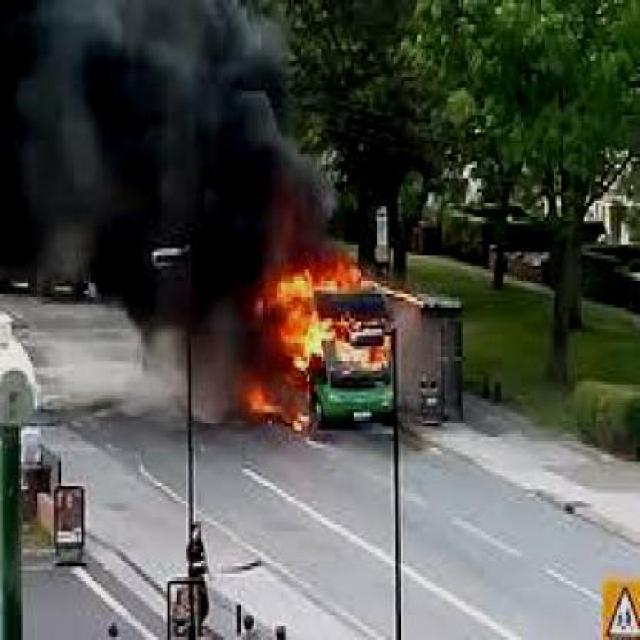Fire: (223, 248, 403, 423)
Smoke: (0, 0, 263, 266)
